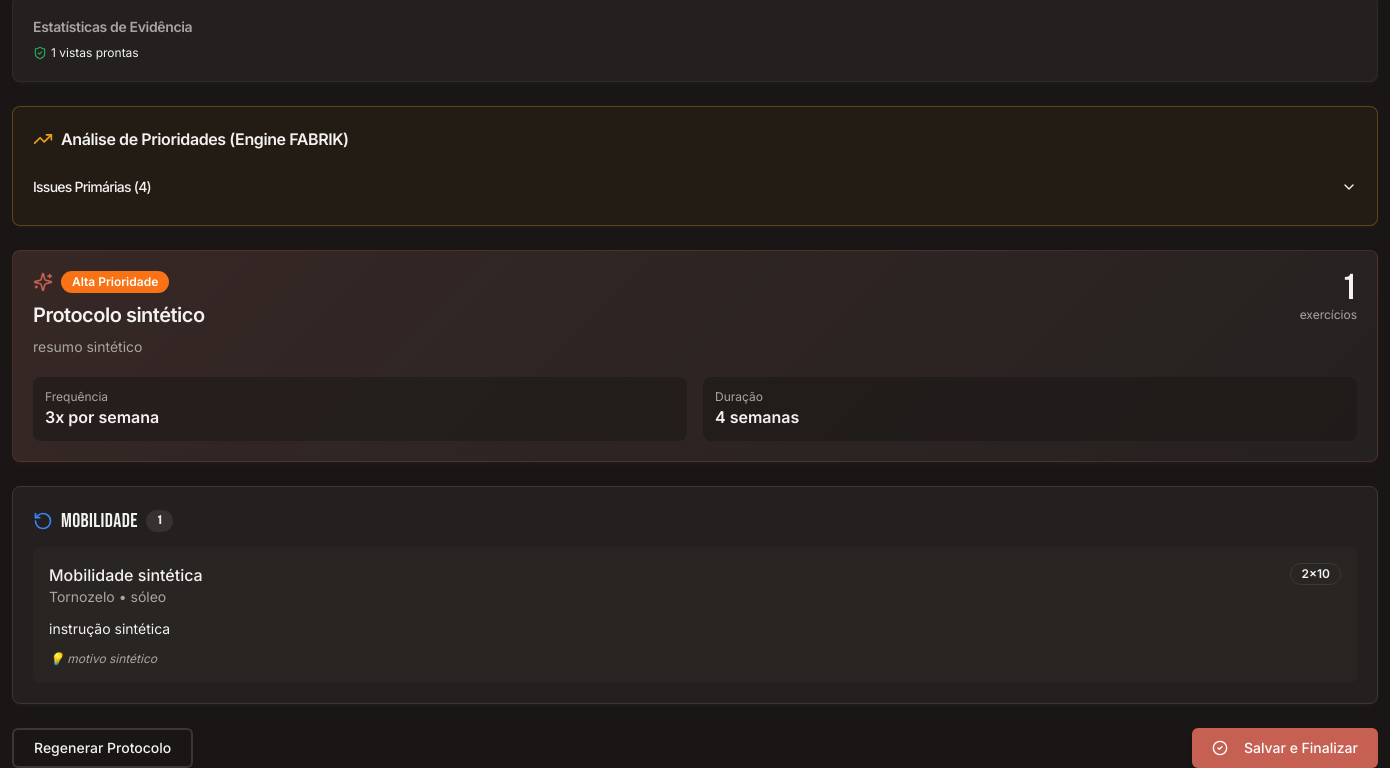
it: F-15: "Regenerar Protocolo" sempre gera e guarda o novo
The width and height of the screenshot is (1390, 768).
Expected: the button "Salvar e Finalizar" is shown, [1192,728,1378,767]
Click the button "Regenerar Protocolo" at (103, 748), box [12,728,193,767]
(page scrolled)
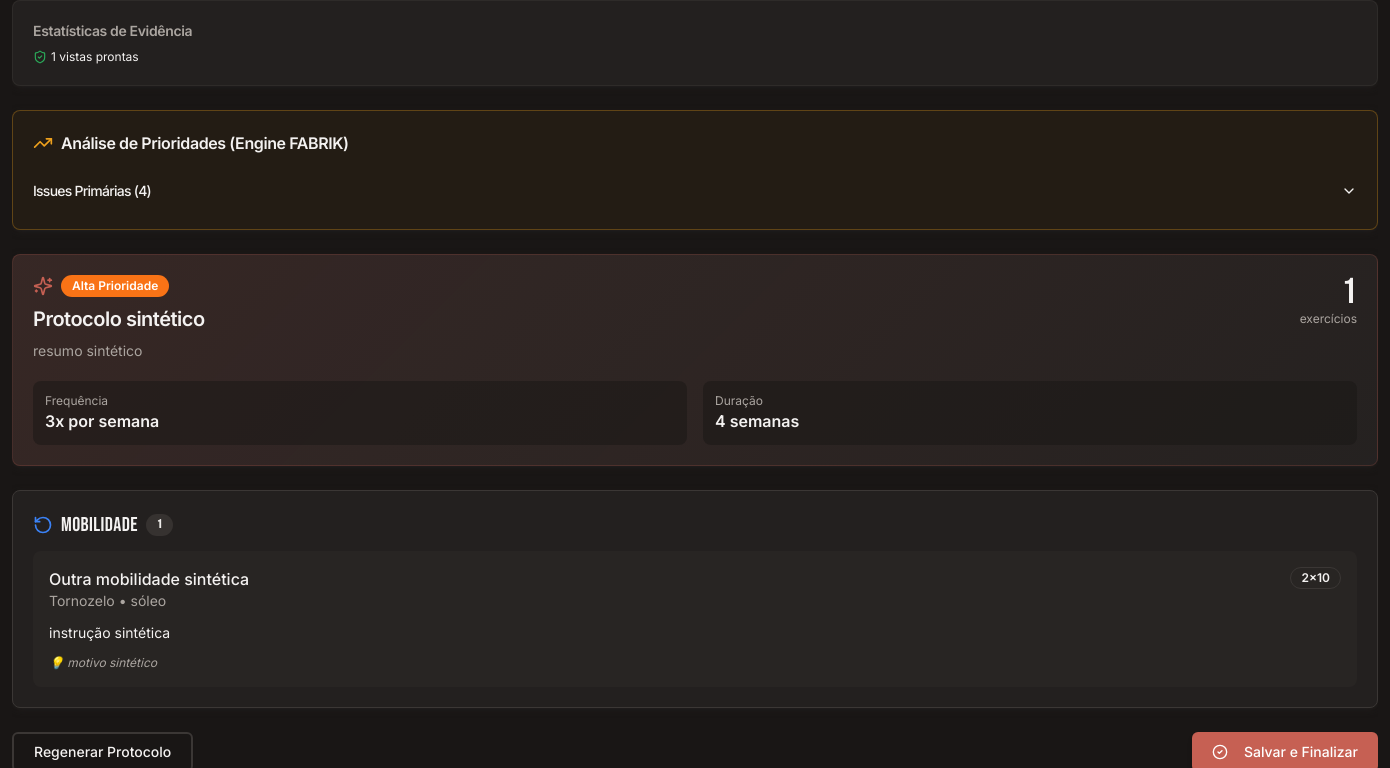
Expected: the text "Outra mobilidade sintética" is shown, [49,567,249,591]
